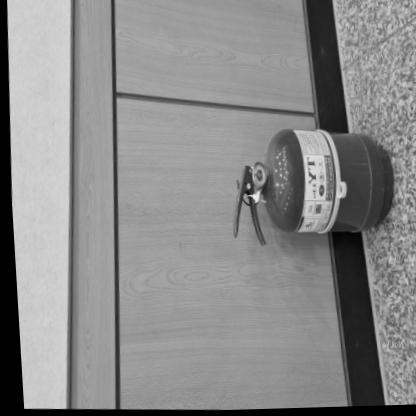FE: (226, 127, 396, 250)
